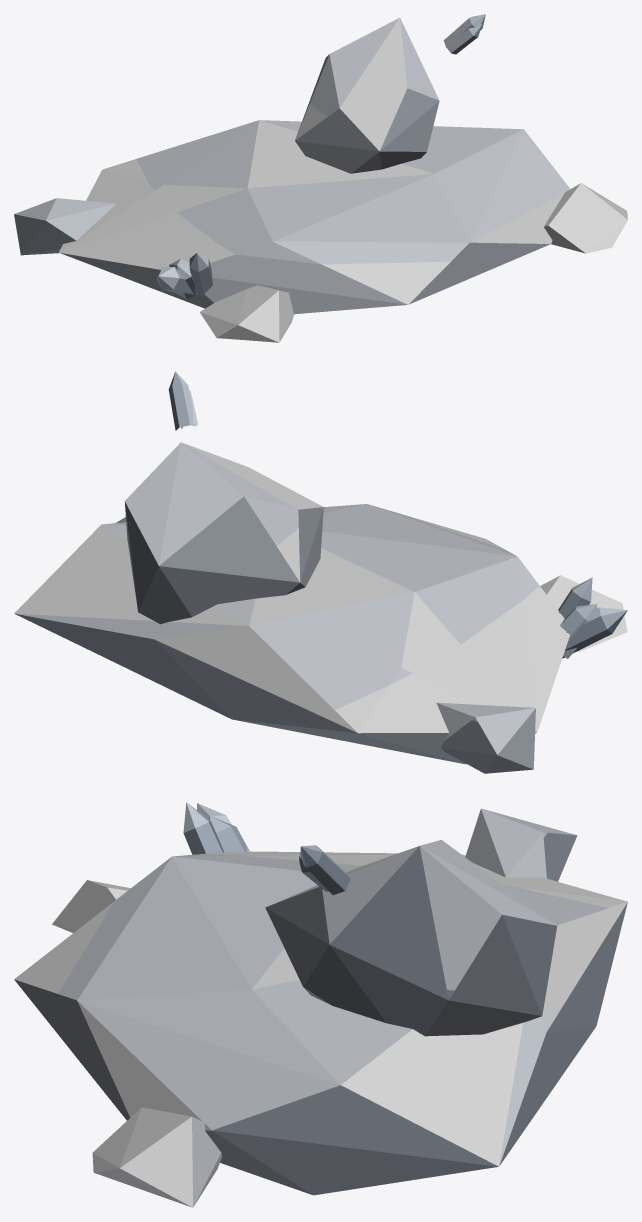
Rendered from rock_arctic_1.glb.
3 views of the same model, one above another, from view 1: azimuth 30°, elevation 25°; view 2: azimuth 150°, elevation 25°; view 3: azimuth 270°, elevation 25° (orthographic). The views are drawn at different scales.
Parts seen in each view (by area): view 1: Body; view 2: Body; view 3: Body.
Boxes of the visible parts, x1,y1,x2,y2 form: Body: [14, 14, 627, 342]; Body: [14, 371, 627, 773]; Body: [14, 802, 627, 1207].
Bounding box in the file's own units: 4.17 × 1.67 × 3.05.
